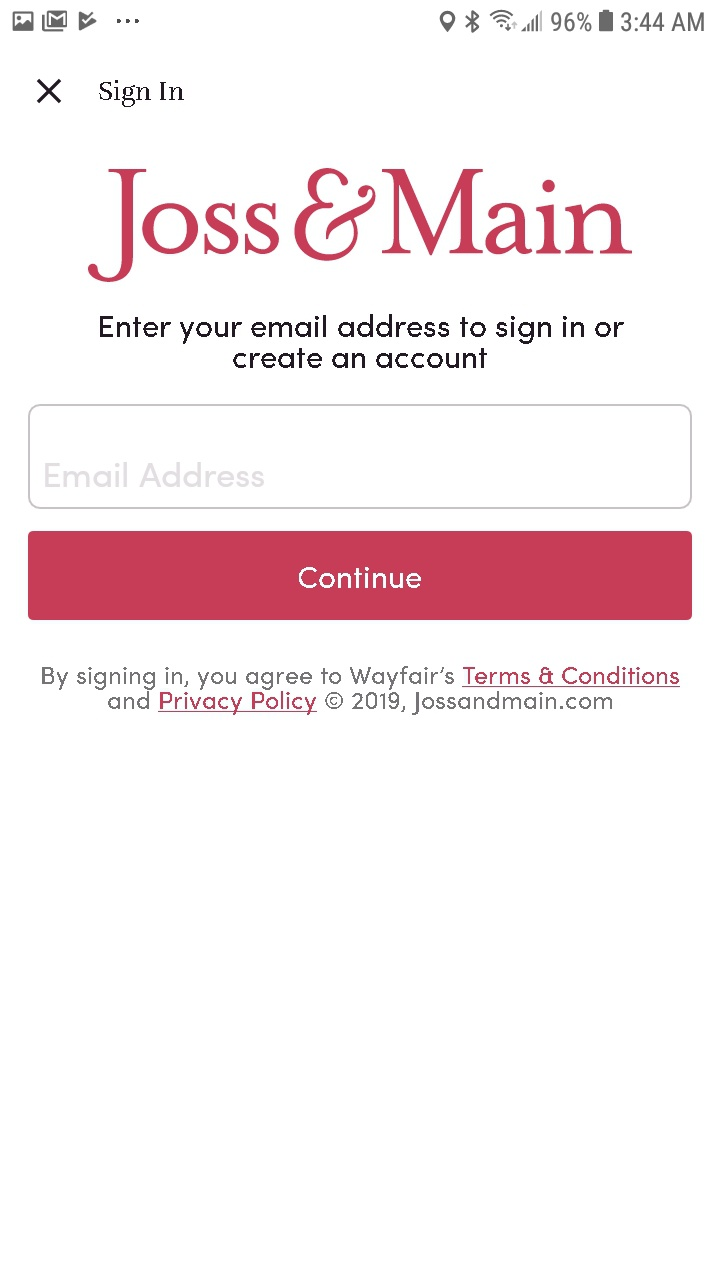EditText: (28, 404, 693, 510)
Icon: (37, 79, 63, 105)
Image: (88, 169, 633, 284)
Text: (43, 666, 681, 716), (100, 314, 625, 370), (45, 462, 265, 488), (99, 80, 185, 109)
TextButton: (29, 531, 693, 621)
UpperTaskBar: (1, 1, 720, 35)
